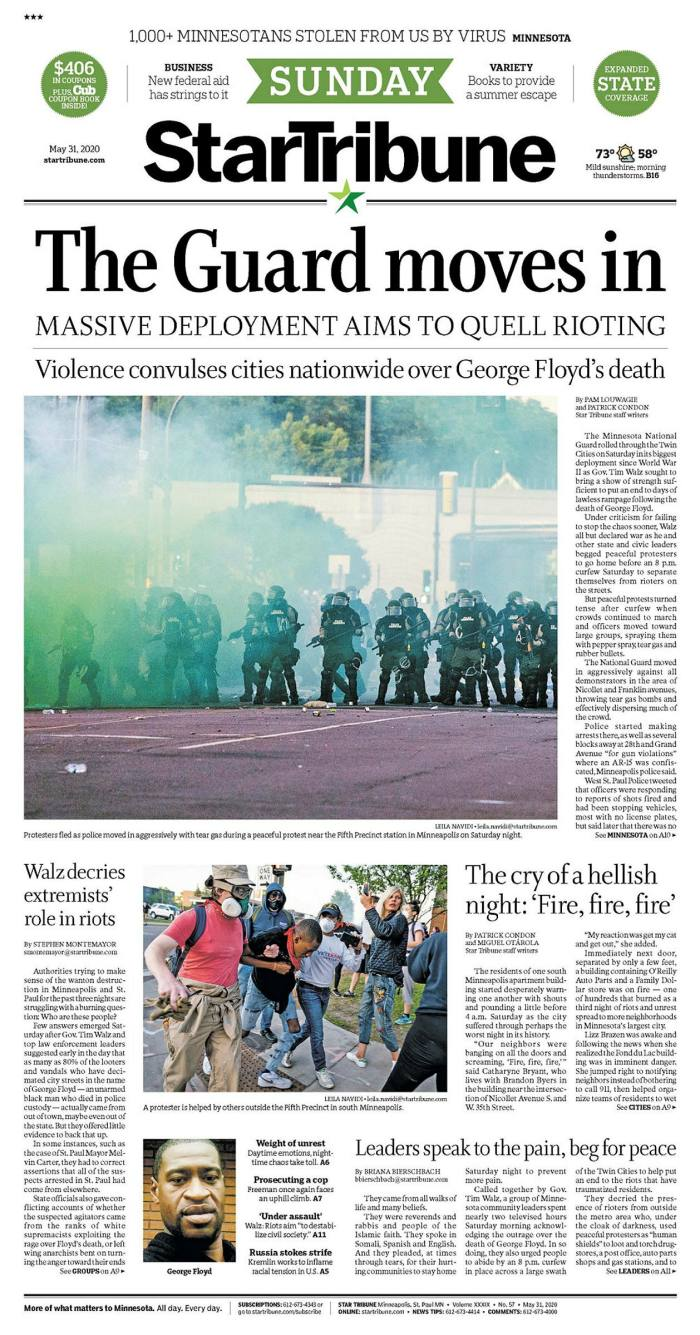news_paper: (14, 11, 697, 1335)
